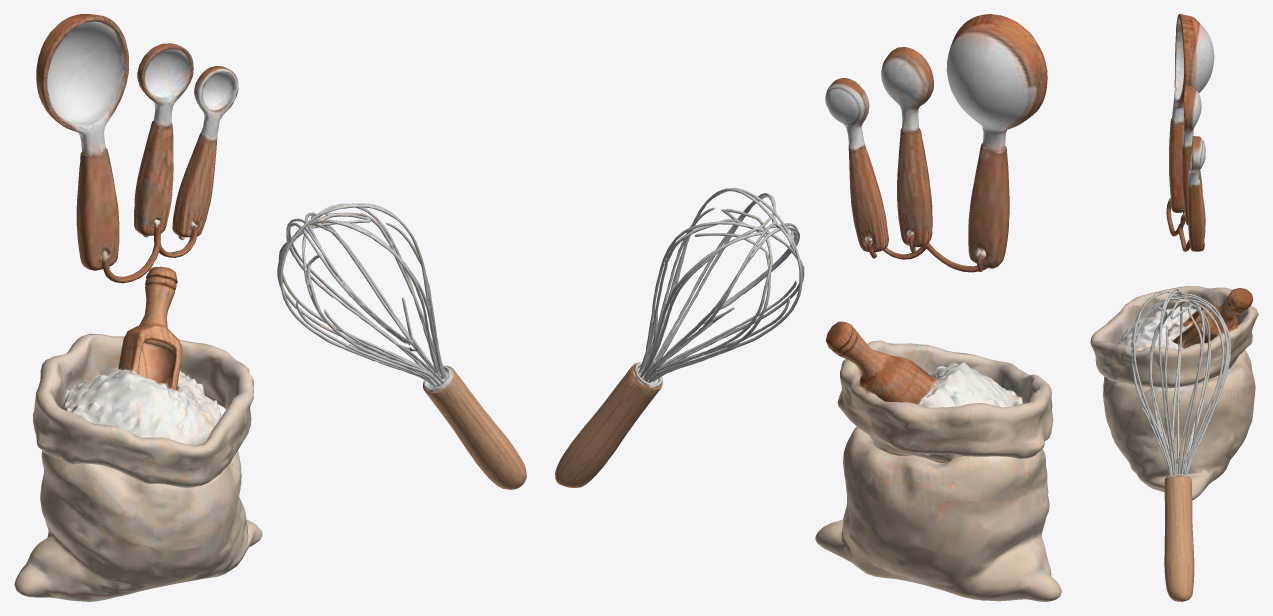
3 renders of one model, left to right at view 1: azimuth 30°, elevation 25°; view 2: azimuth 150°, elevation 25°; view 3: azimuth 270°, elevation 25°, orthographic. The views are drawn at different scales.
Visible parts, largest first — view 1: Mesh 1, Mesh 2, Mesh 3; view 2: Mesh 1, Mesh 2, Mesh 3; view 3: Mesh 1, Mesh 3, Mesh 2.
Part boxes in pixels (x1,y1,x2,y2): Mesh 1: (14,266,262,601); Mesh 2: (36,14,238,283); Mesh 3: (277,203,526,489); Mesh 1: (815,321,1061,601); Mesh 2: (825,14,1047,272); Mesh 3: (555,188,804,487); Mesh 1: (1090,286,1258,500); Mesh 3: (1131,288,1230,601); Mesh 2: (1166,14,1214,251).
Bounding box in the file's own units: 1.74 × 1.9 × 0.6739.
Materials: 3 (3 with a texture image).
